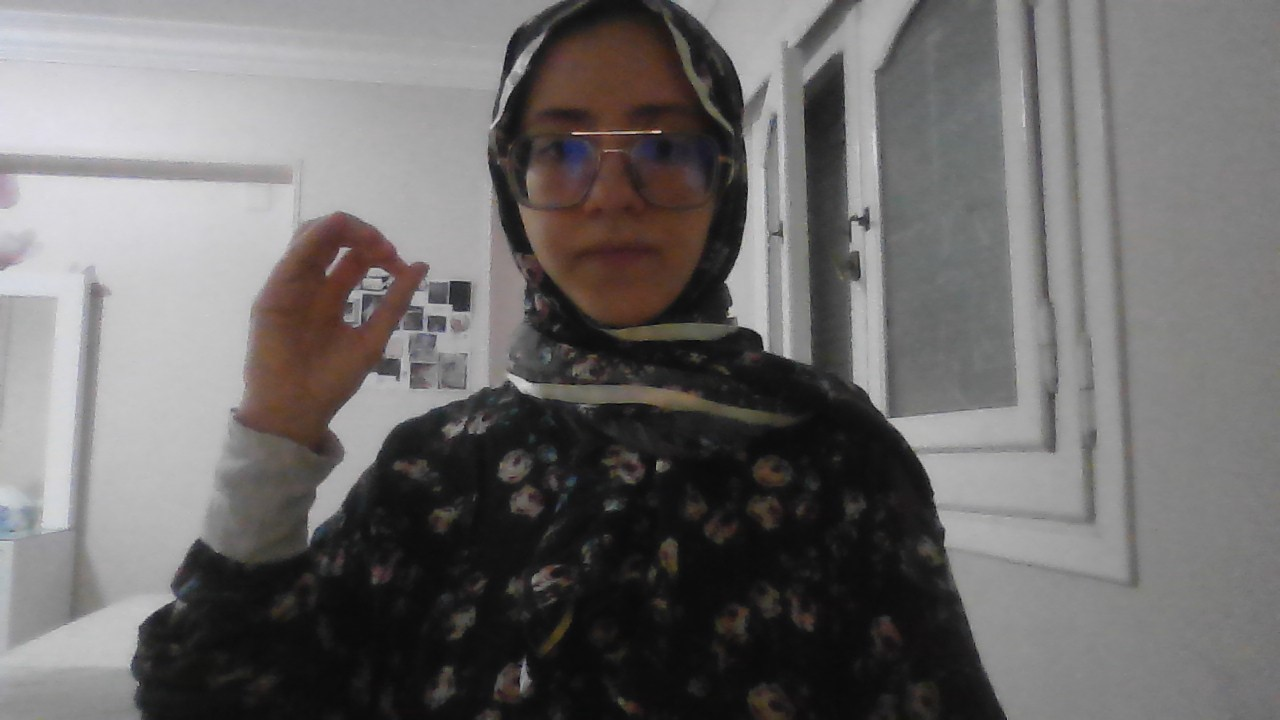okay: (239, 193, 441, 440)
